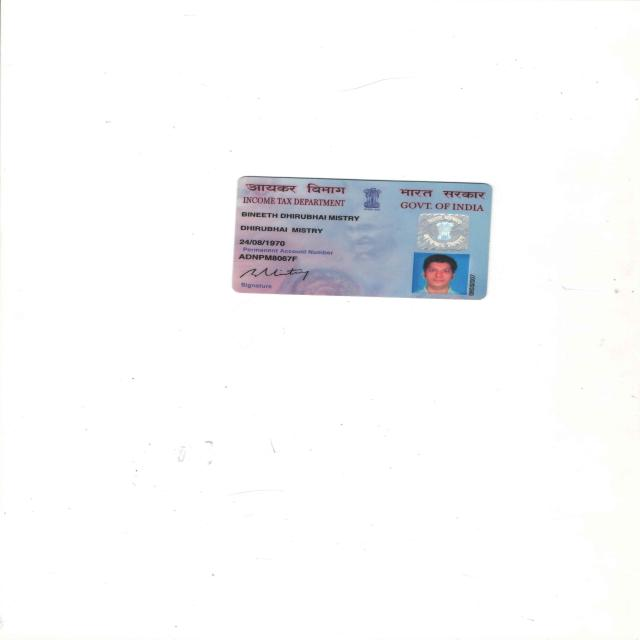pan_card: (232, 175, 491, 301)
